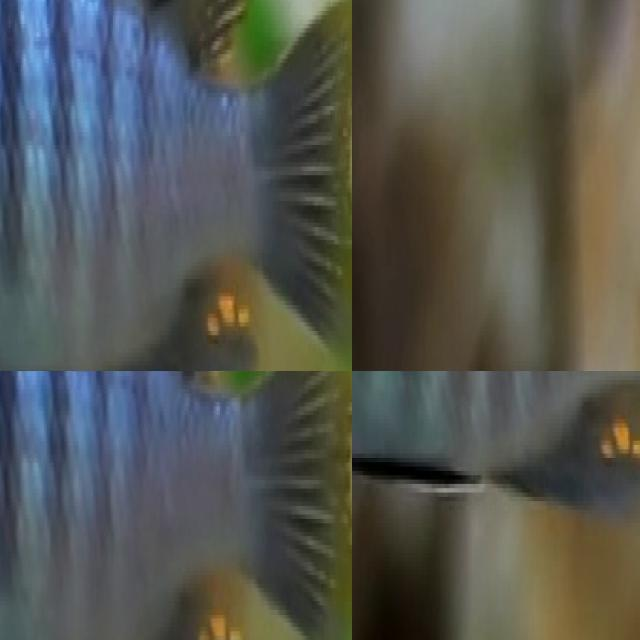fish: (0, 0, 352, 371), (0, 371, 352, 640), (352, 371, 640, 570)
